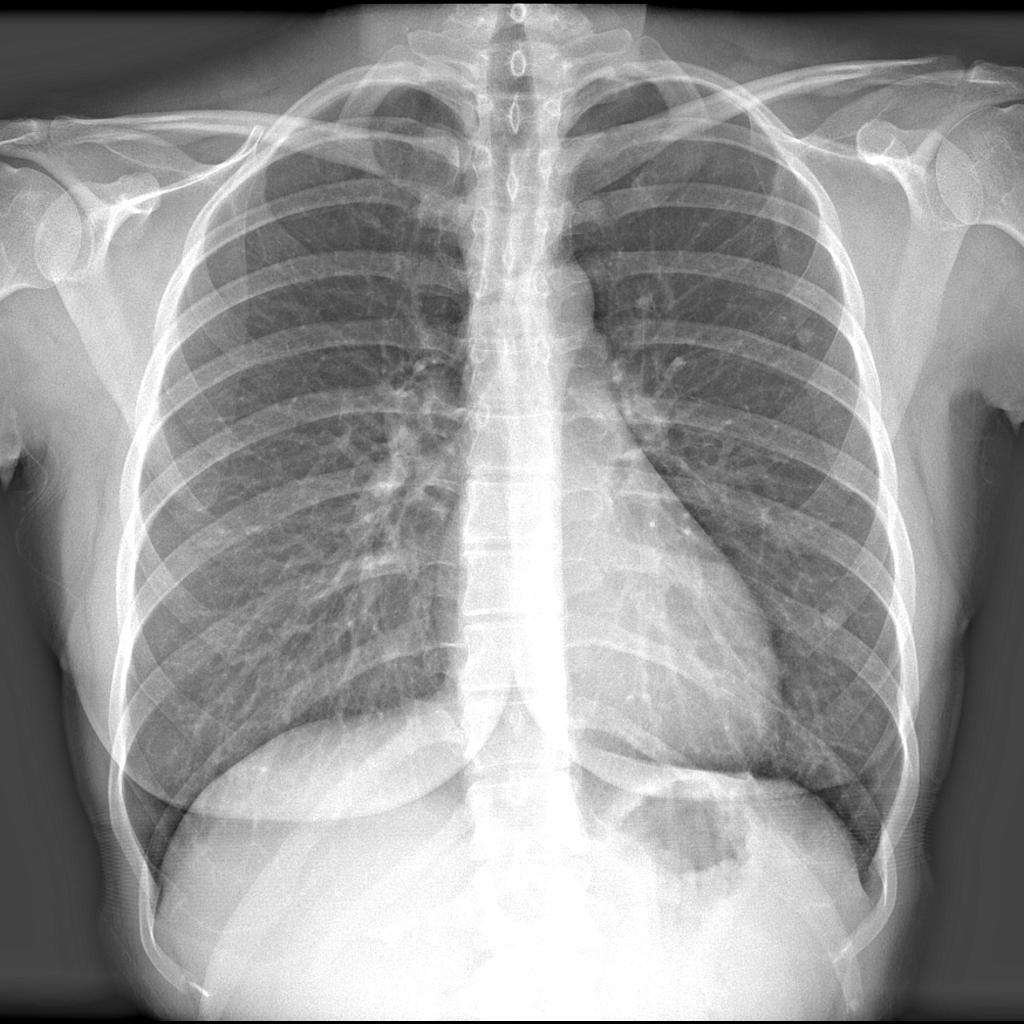Nodule: (790, 322, 827, 362), (819, 602, 856, 642)
